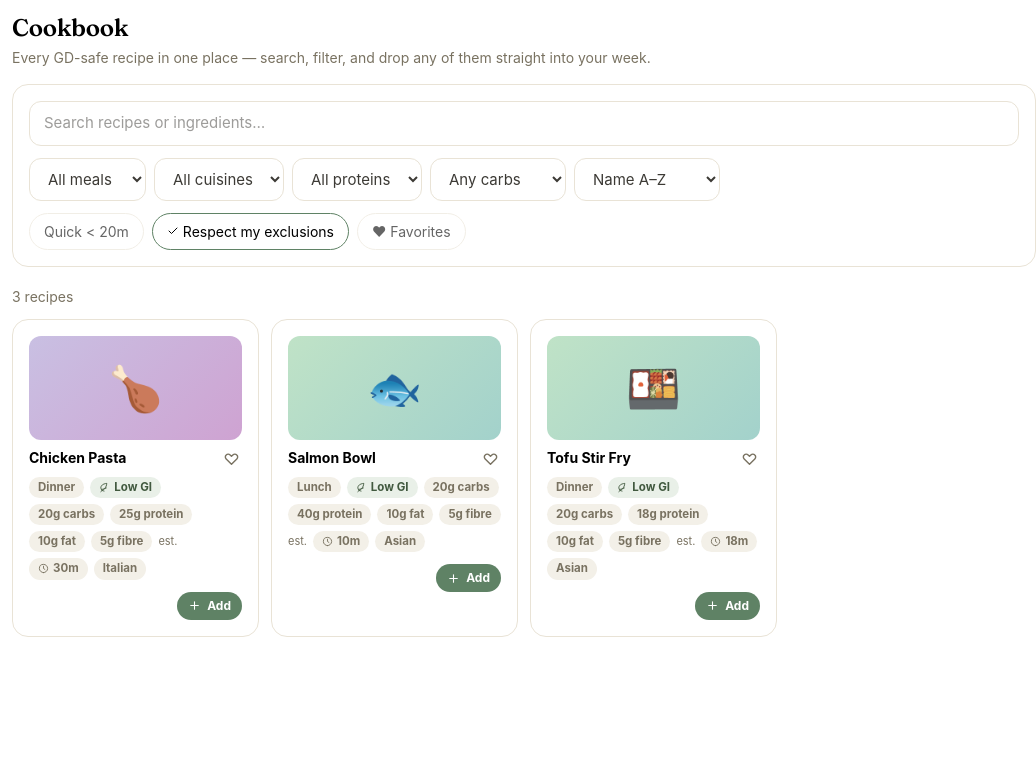
CookbookTab › clears active filters and the filtered indicator with one tap
Check: the button "Clear filters" is not shown
Select "dinner" in the dropdown named "Filter by meal type" at (88, 179), box [29,158,146,200]
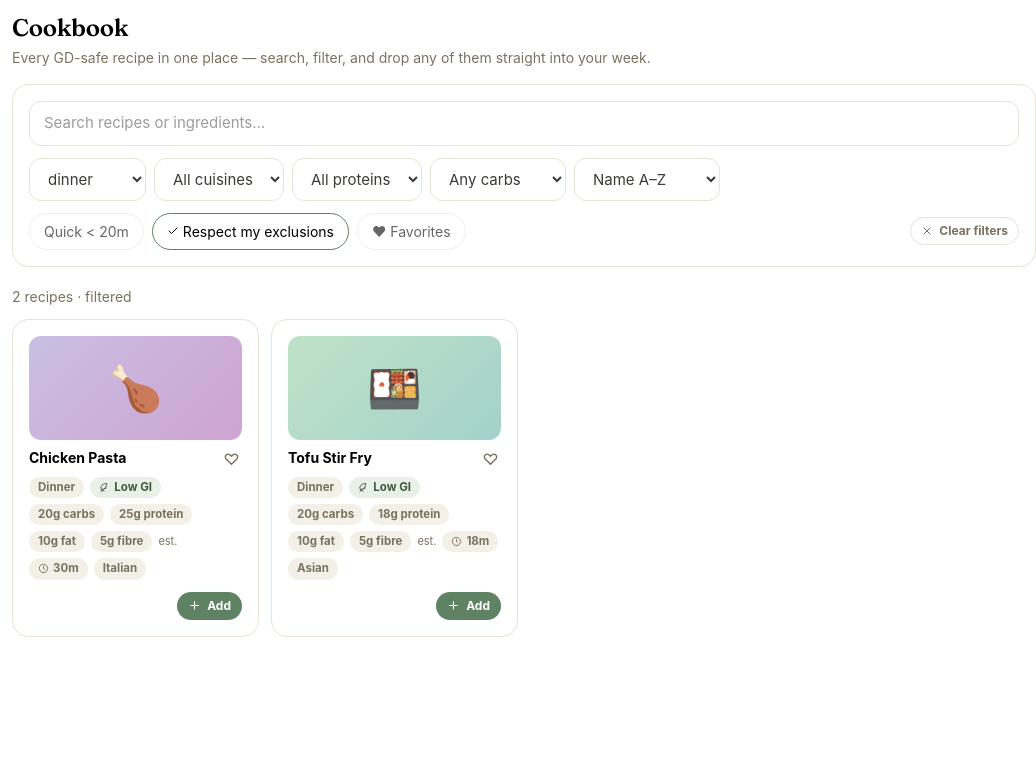
Check: the text "2 recipes · filtered" is shown, box [12,288,132,304]
Click the button "Clear filters" at (965, 231), box [910,217,1019,245]
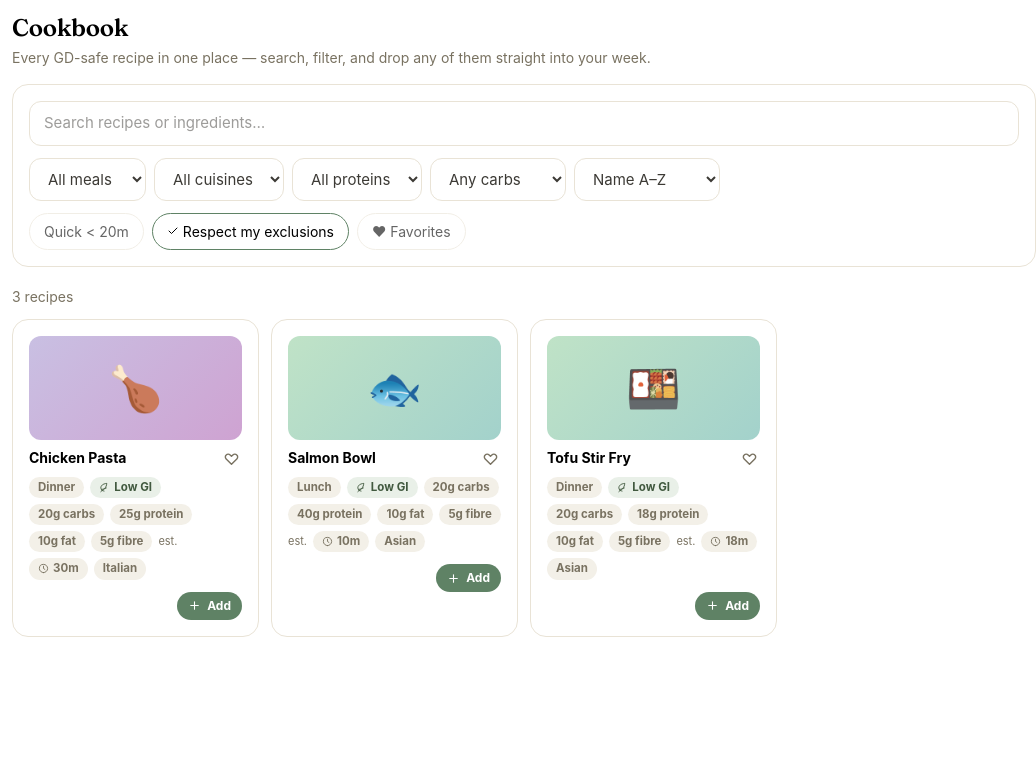
Check: the text "3 recipes" is shown, box [12,288,73,304]
Check: the button "Clear filters" is gone
